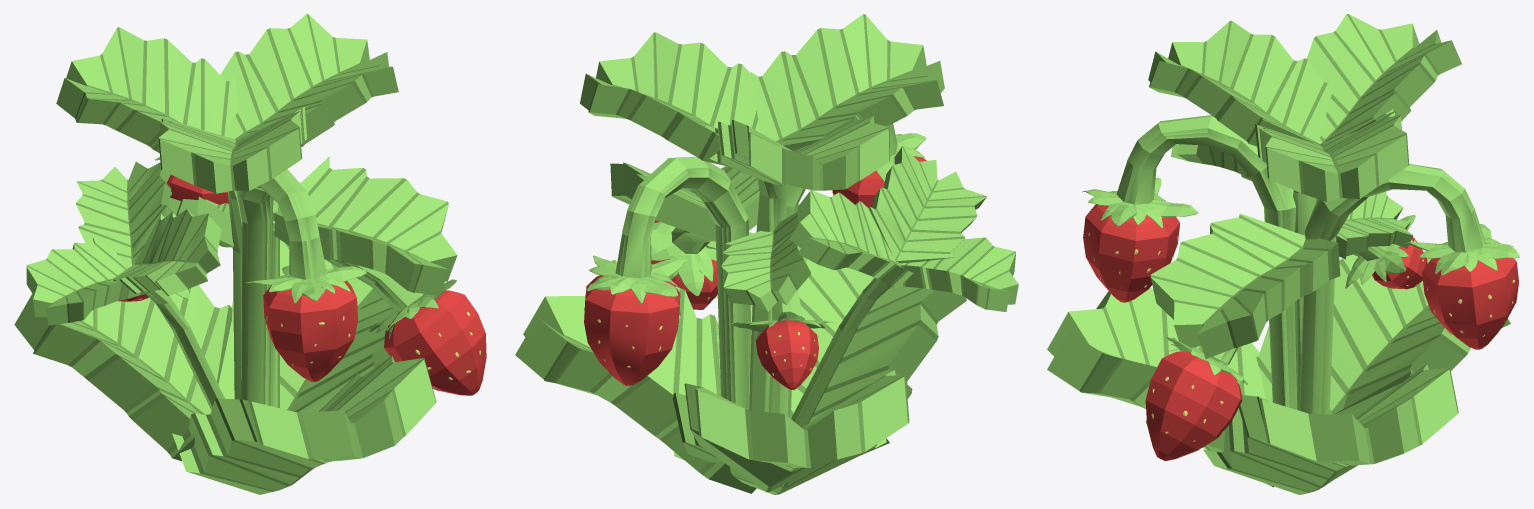
File: strawberry_plant.fbx
The picture shows the model from 3 angles, left to right: view 1: azimuth 30°, elevation 25°; view 2: azimuth 150°, elevation 25°; view 3: azimuth 270°, elevation 25°; orthographic projection. The views are drawn at different scales.
Parts seen in each view (by area): view 1: strawberry.001, strawberry.000; view 2: strawberry.001, strawberry.000; view 3: strawberry.001, strawberry.000.
Part boxes in pixels (x1,y1,x2,y2): strawberry.001: (14,14,457,494); strawberry.000: (118,174,486,395); strawberry.001: (515,14,1018,494); strawberry.000: (584,156,926,389); strawberry.001: (1047,14,1519,494); strawberry.000: (1083,204,1518,461).
Size of the model in its own units: 1672 by 1553 by 1588.
